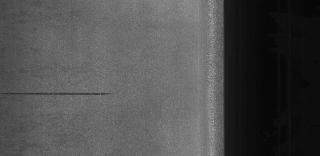scratches: (8, 84, 124, 104)
